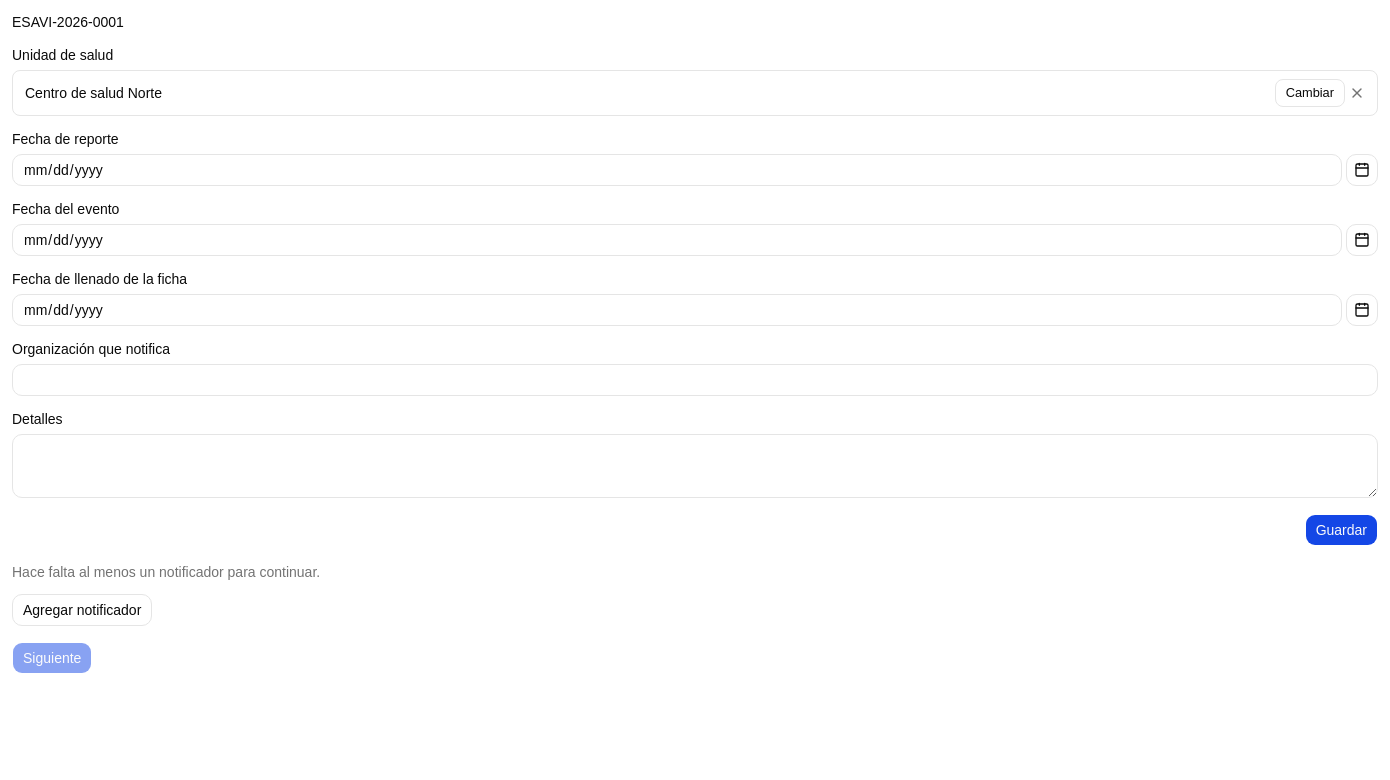
it: CaseOpeningStep — 409 por expediente cerrado (SPEC FE17 §4 paso 7) › un 409 CASE_004_CASE_CLOSED muestra un solo toast con el texto del servidor, relee el 006 y deja el paso en sólo lectura
Type "Nota nueva" into the text box labelled "Detalles" at point(695, 466), box left=12, top=434, right=1378, bottom=498
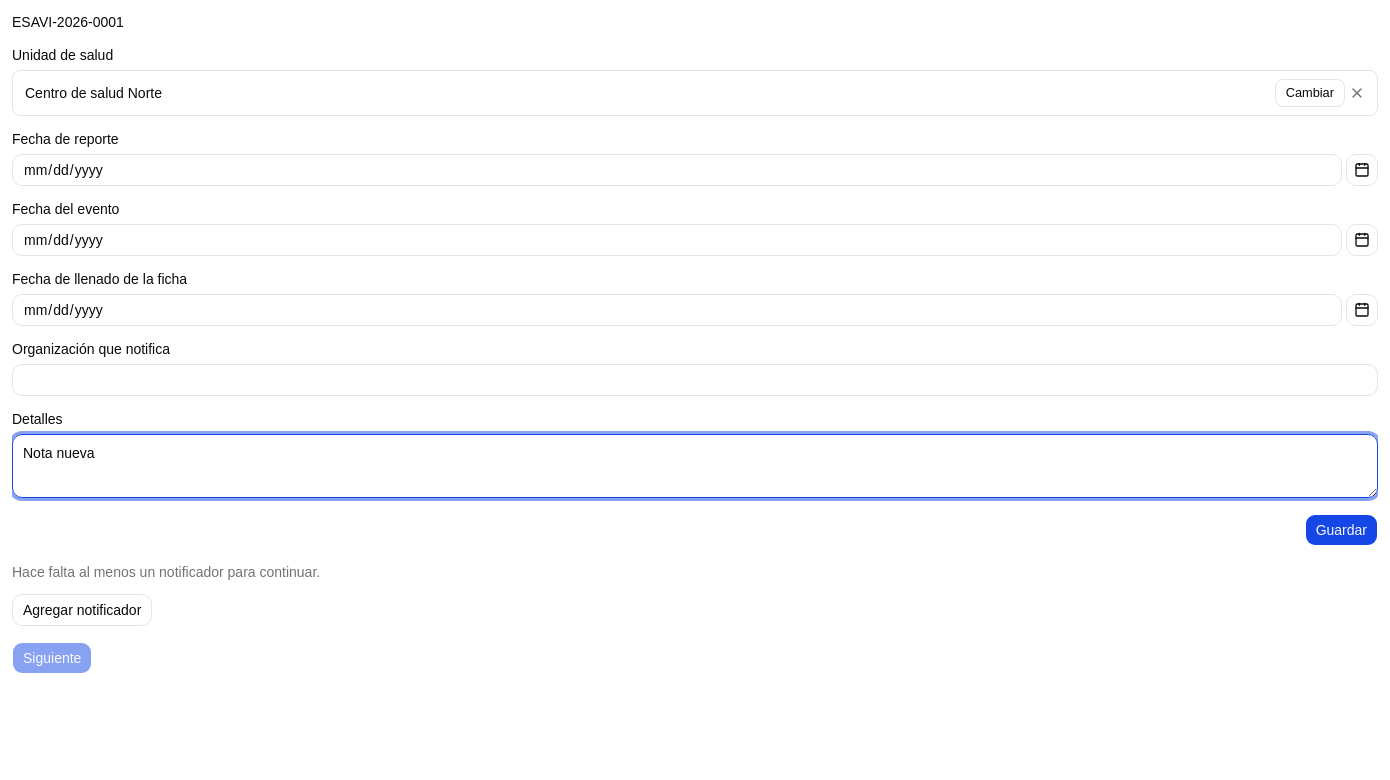
Click the button "Guardar" at point(1341, 530), box left=1305, top=514, right=1378, bottom=546
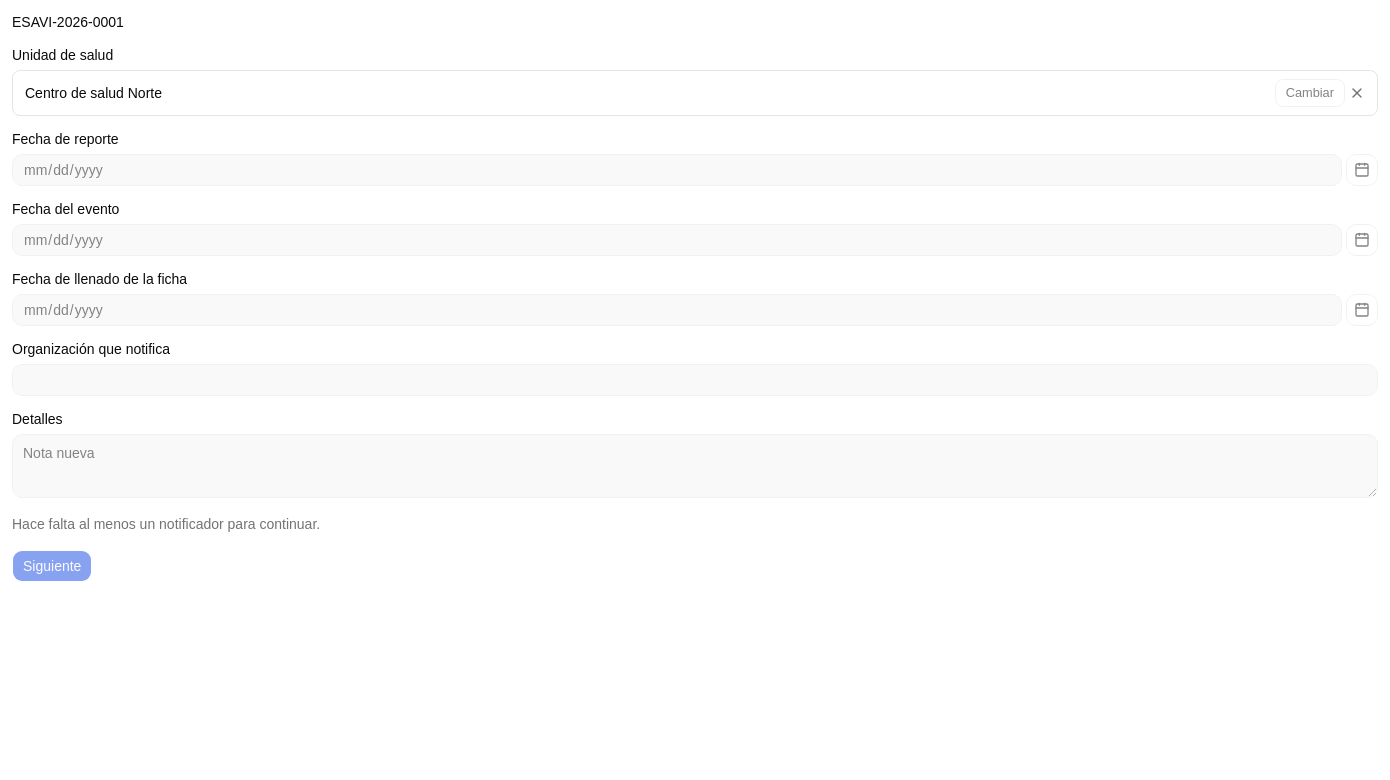
Expected: the text box labelled "Detalles" is disabled, left=12, top=434, right=1378, bottom=498
Expected: the button "Guardar" is gone
